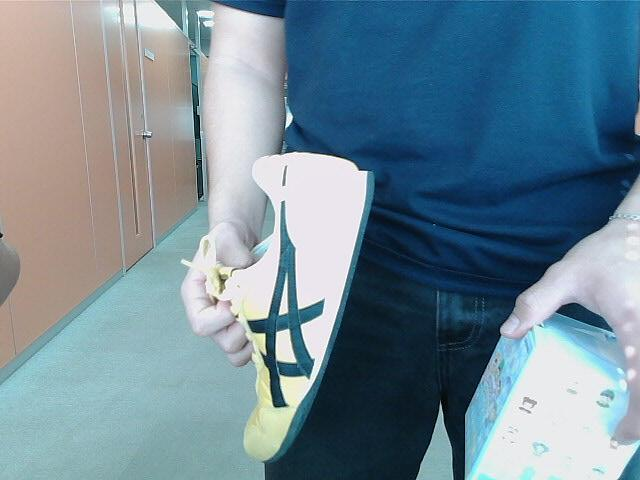Blind_box: (464, 305, 640, 480)
Shoes: (206, 153, 374, 460)
